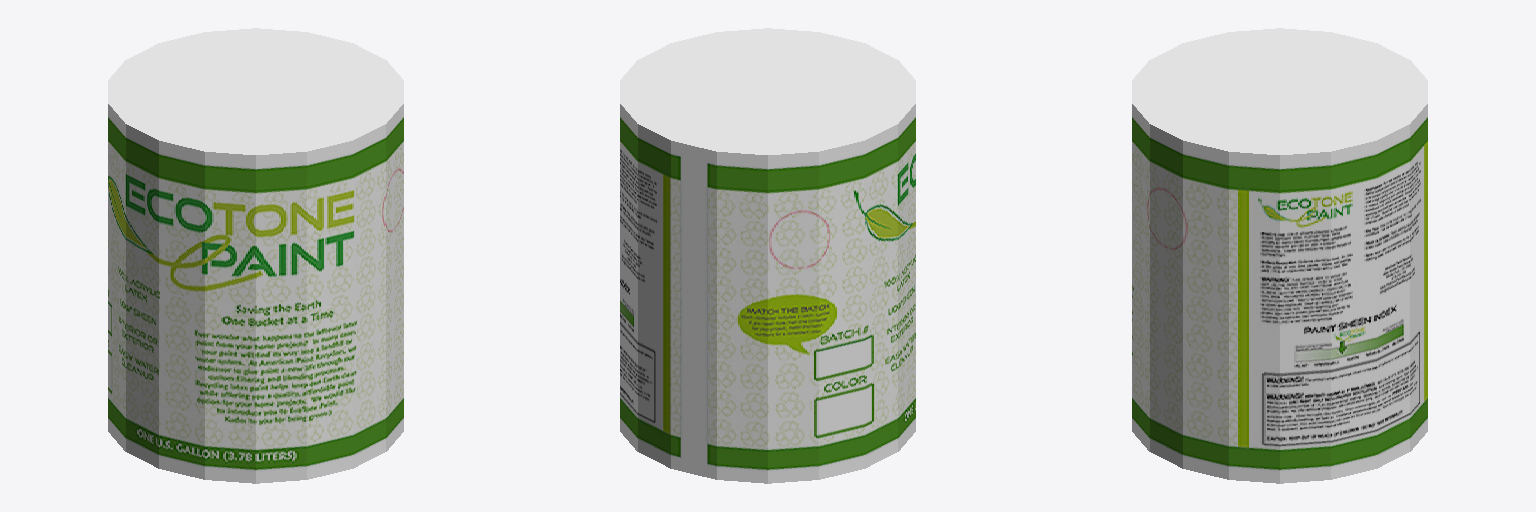
3 renders of one model, left to right at view 1: azimuth 30°, elevation 25°; view 2: azimuth 150°, elevation 25°; view 3: azimuth 270°, elevation 25°, orthographic.
Visible parts, largest first — view 1: Cylinder001; view 2: Cylinder001; view 3: Cylinder001.
Part boxes in pixels (bbox=[...]): Cylinder001: bbox=[108, 28, 403, 483]; Cylinder001: bbox=[620, 28, 915, 483]; Cylinder001: bbox=[1132, 28, 1427, 483].
Size of the model in its own units: 3.49 by 4.2 by 3.44.
1 materials, 1 textured.